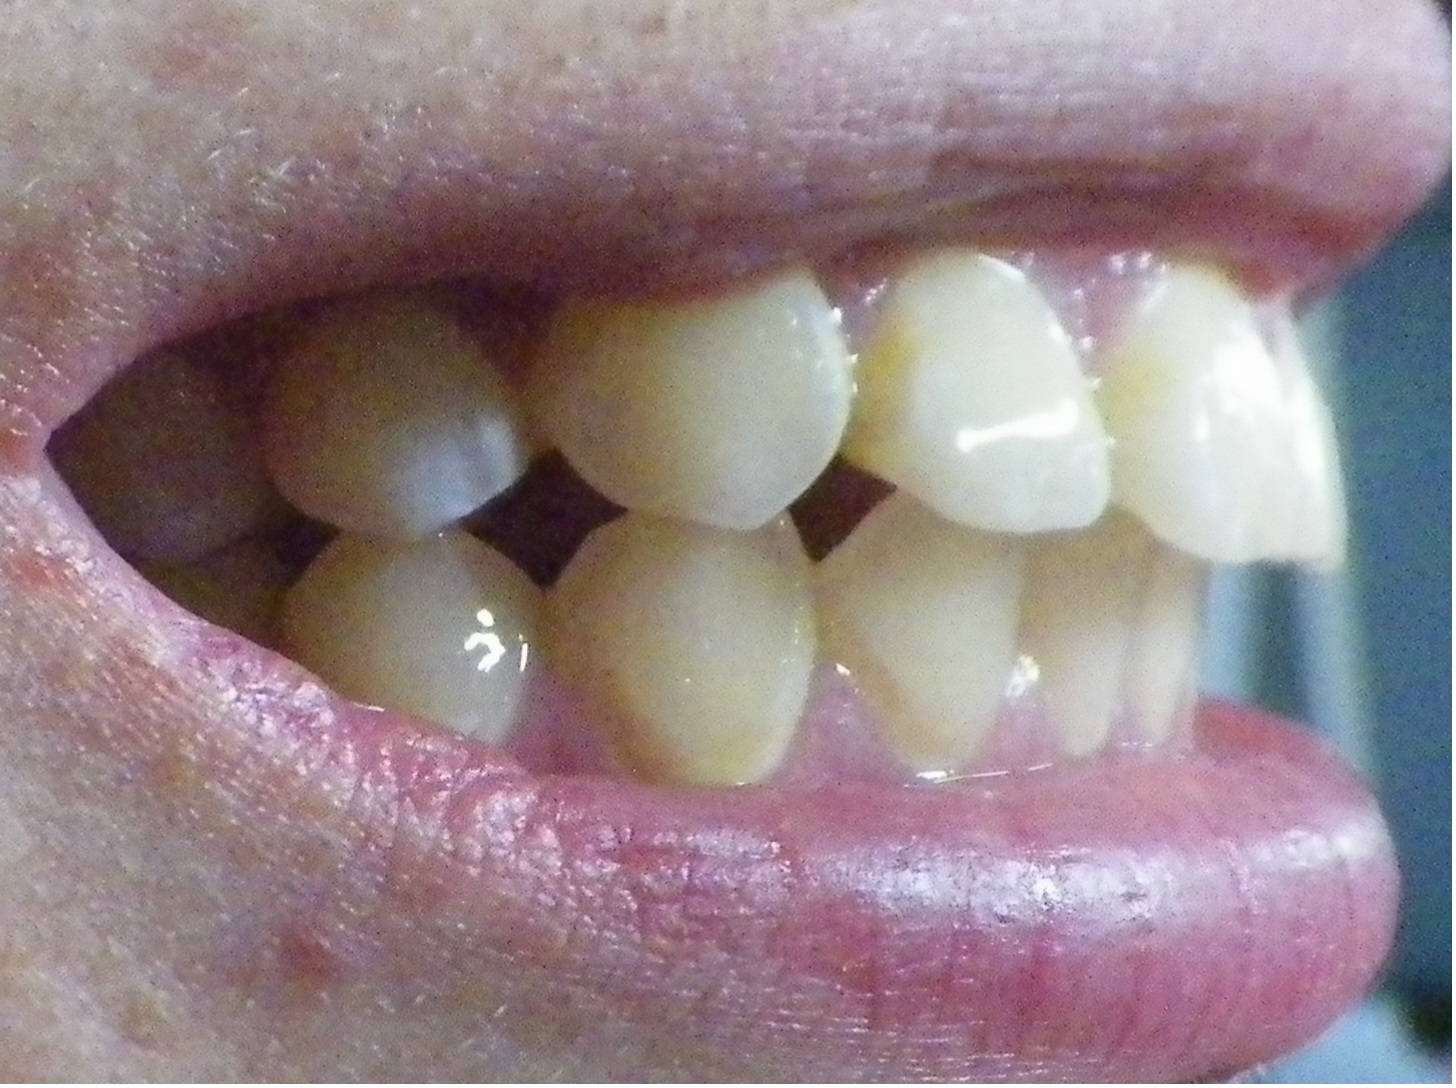boca: (53, 264, 1343, 774)
